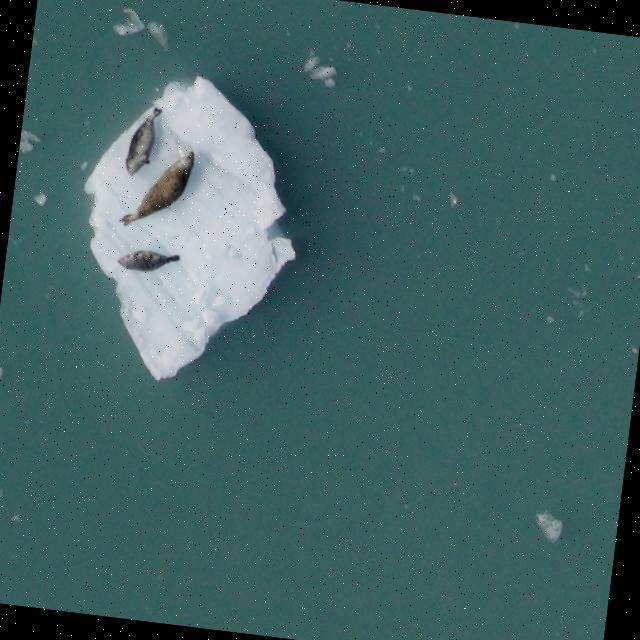seal: (115, 140, 200, 234), (119, 101, 163, 184), (108, 243, 182, 280)
